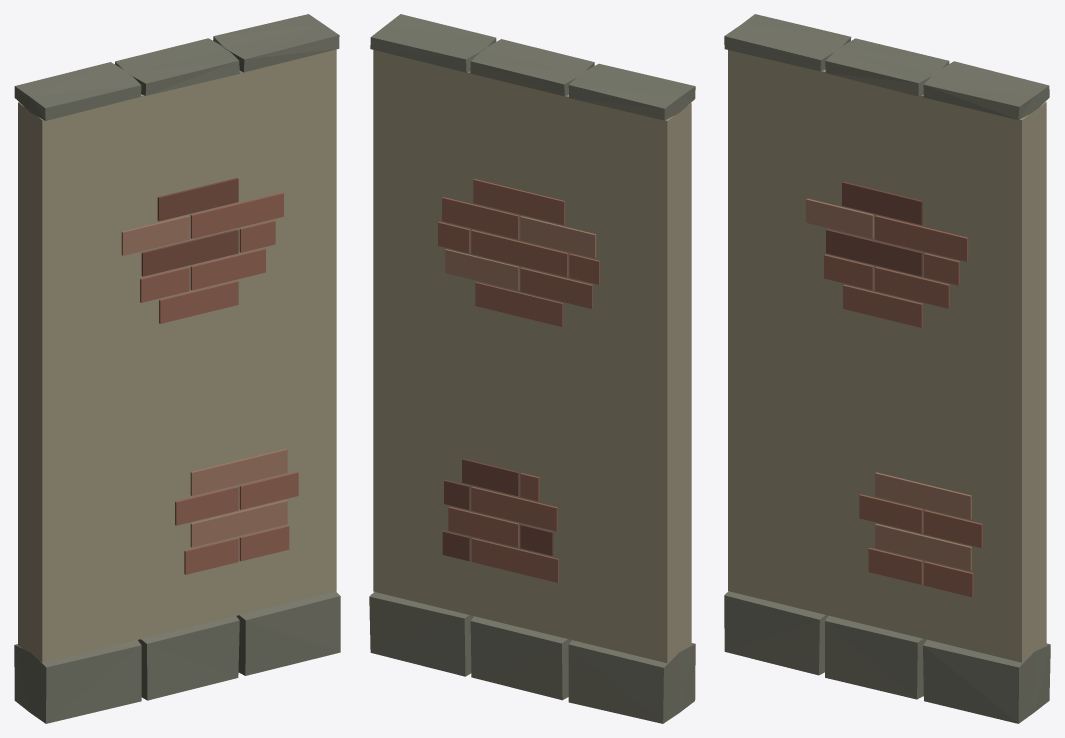
The model's file is wall_brick_2.glb.
The picture shows the model from 3 angles, left to right: view 1: azimuth 30°, elevation 25°; view 2: azimuth 150°, elevation 25°; view 3: azimuth 330°, elevation 25°; orthographic projection.
Parts seen in each view (by area): view 1: Wall_Brick_2; view 2: Wall_Brick_2; view 3: Wall_Brick_2.
Part boxes in pixels (x1,y1,x2,y2): Wall_Brick_2: (14, 14, 340, 723); Wall_Brick_2: (369, 14, 695, 723); Wall_Brick_2: (724, 14, 1050, 723).
Bounding box in the file's own units: 1.52 × 3.05 × 0.2949.
